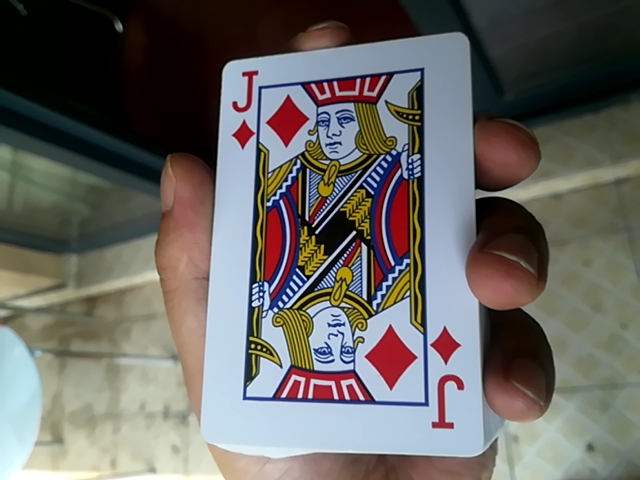fk j: (199, 39, 463, 453)
